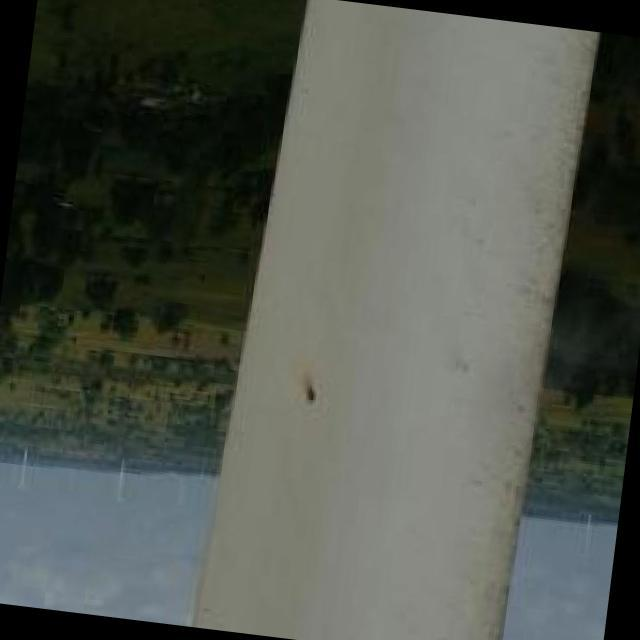Dirt: (455, 27, 598, 639)
Pin Hole: (302, 382, 321, 409)
